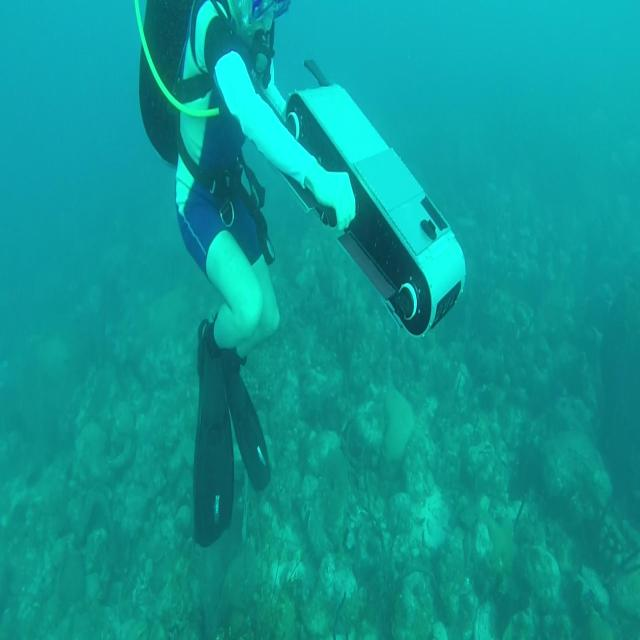human: (138, 0, 357, 547)
